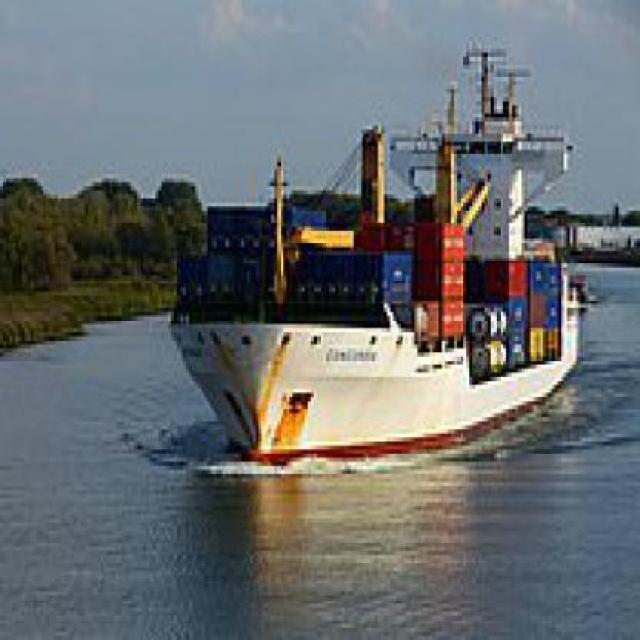container: (150, 25, 604, 479)
